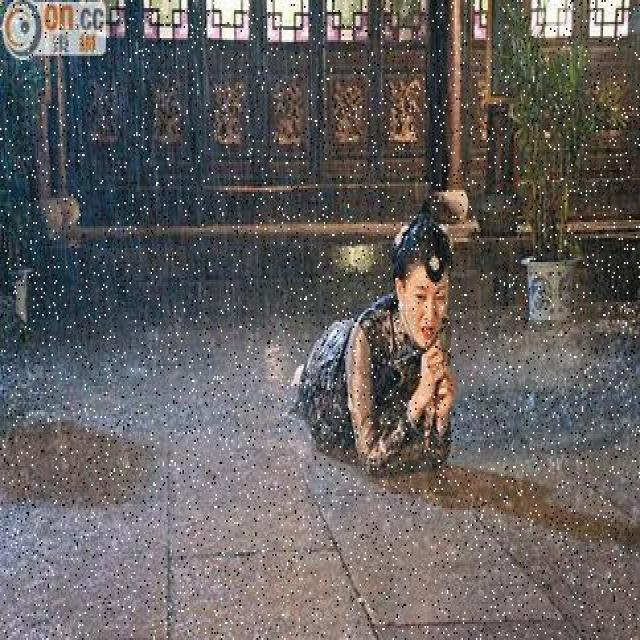fall: (286, 232, 482, 466)
